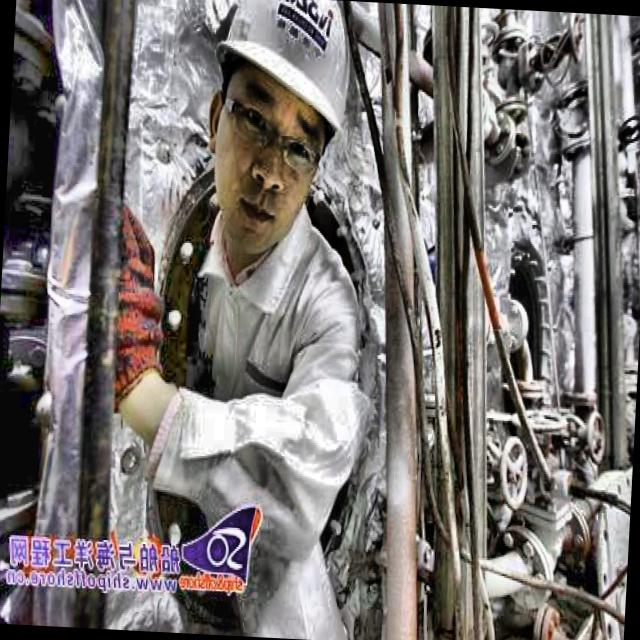helmet: (189, 0, 360, 274)
